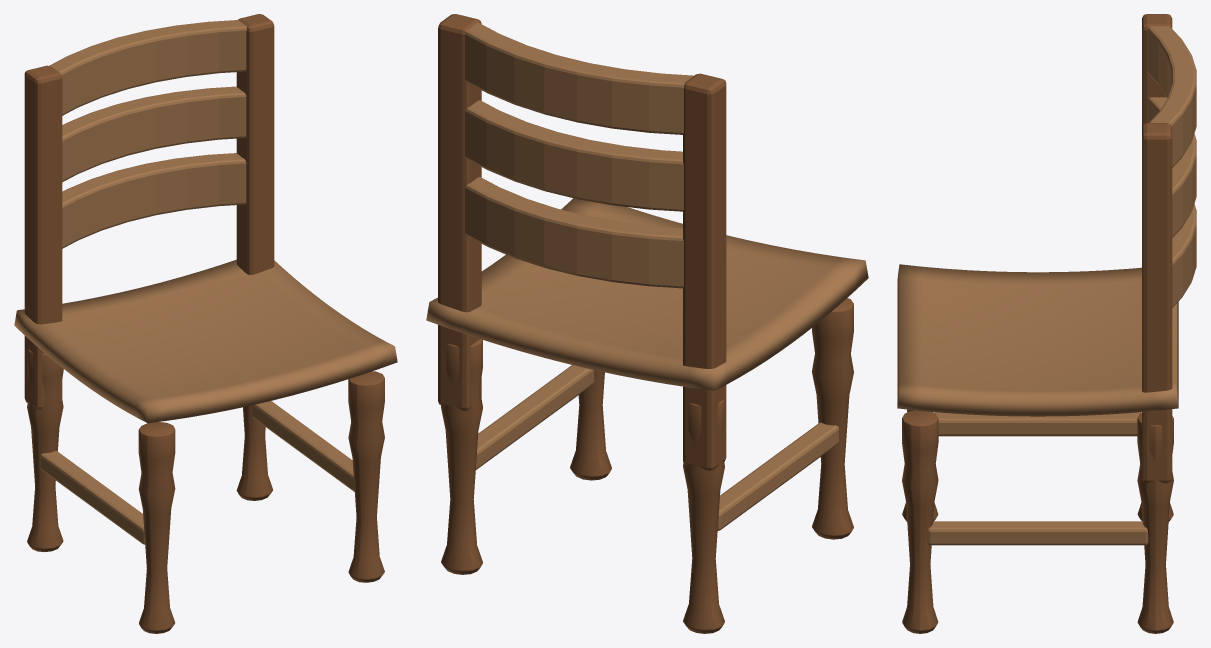
The model's file is chair_large.glb.
3 renders of one model, left to right at view 1: azimuth 30°, elevation 25°; view 2: azimuth 150°, elevation 25°; view 3: azimuth 270°, elevation 25°, orthographic. The views are drawn at different scales.
Visible parts, largest first — view 1: curved_seat.001, back_post.002, back_slat.005, back_slat.004, back_slat.003, back_post.003, turned_leg.016, turned_leg.018, turned_leg.017, stretcher.003, stretcher.004, turned_leg.019; view 2: curved_seat.001, back_post.002, back_slat.005, back_slat.003, back_slat.004, back_post.003, turned_leg.016, turned_leg.019, turned_leg.017, stretcher.003, stretcher.004, turned_leg.018; view 3: curved_seat.001, back_post.003, turned_leg.018, stretcher.004, turned_leg.019, back_slat.005, stretcher.003, back_slat.004, back_slat.003, back_post.002.
Part boxes in pixels (box(x1,y1,x2,y2)): curved_seat.001: box(14, 259, 397, 423); back_post.002: box(24, 65, 62, 409); back_slat.005: box(49, 20, 246, 115); back_slat.004: box(62, 86, 246, 182); back_slat.003: box(62, 153, 246, 248); back_post.003: box(236, 14, 274, 274); turned_leg.016: box(138, 422, 175, 633); turned_leg.018: box(348, 371, 384, 582); turned_leg.017: box(27, 349, 63, 552); stretcher.003: box(40, 451, 145, 544); stretcher.004: box(252, 401, 354, 491); turned_leg.019: box(236, 405, 272, 500); curved_seat.001: box(426, 198, 868, 390); back_post.002: box(683, 73, 726, 470); back_slat.005: box(465, 23, 693, 134); back_slat.003: box(465, 177, 683, 288); back_slat.004: box(465, 100, 683, 211); back_post.003: box(438, 14, 481, 410); turned_leg.016: box(812, 298, 853, 539); turned_leg.019: box(441, 339, 482, 574); turned_leg.017: box(683, 400, 724, 633); stretcher.003: box(717, 422, 838, 530); stretcher.004: box(476, 365, 594, 469); turned_leg.018: box(570, 370, 611, 480); curved_seat.001: box(897, 264, 1178, 416); back_post.003: box(1142, 123, 1172, 483); turned_leg.018: box(902, 410, 938, 633); stretcher.004: box(927, 521, 1148, 545); turned_leg.019: box(1137, 413, 1173, 633); back_slat.005: box(1147, 26, 1196, 167); stretcher.003: box(933, 412, 1141, 436); back_slat.004: box(1147, 97, 1196, 237); back_slat.003: box(1172, 204, 1196, 307); back_post.002: box(1142, 14, 1172, 126).
Size of the model in its own units: 0.6586 by 1.2 by 0.6484.
